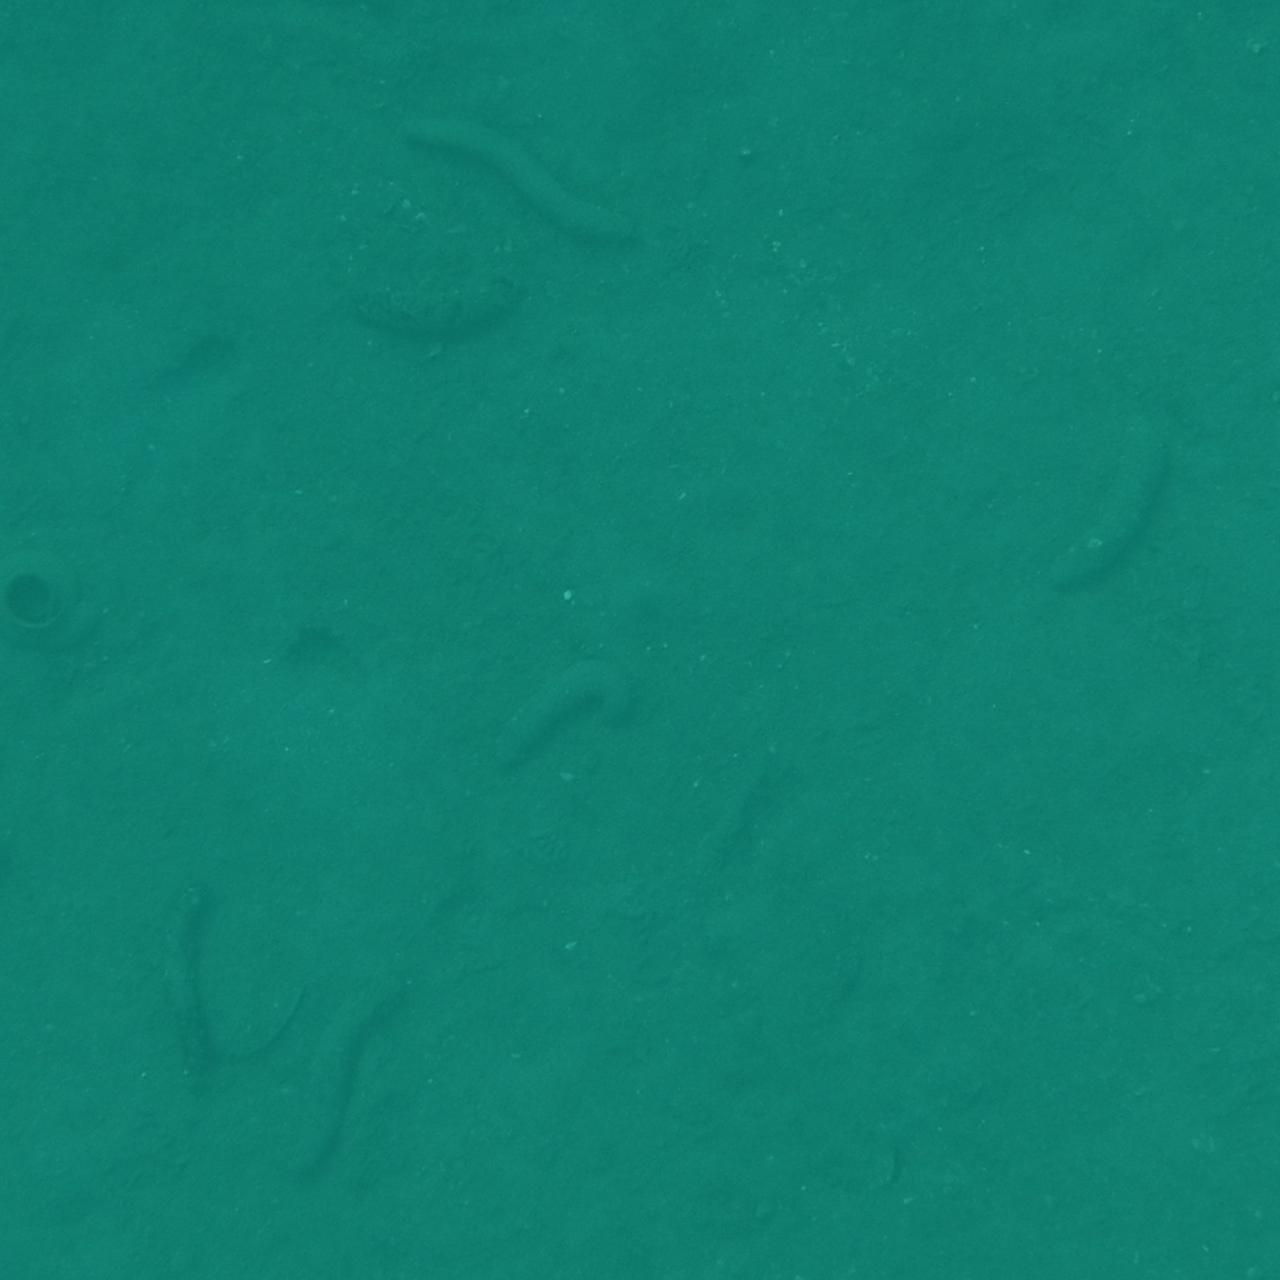Holothuria tubulosa: (384, 103, 659, 263), (270, 958, 435, 1192), (1044, 399, 1210, 602), (290, 257, 539, 379), (475, 645, 645, 808), (144, 877, 247, 1141), (0, 445, 128, 636), (136, 0, 277, 150), (953, 0, 1131, 111), (0, 0, 168, 111), (0, 0, 123, 149), (470, 0, 640, 105), (0, 1146, 118, 1280), (1198, 0, 1280, 182), (0, 833, 156, 927), (237, 0, 468, 61), (0, 0, 129, 108), (0, 0, 63, 198), (0, 560, 75, 723), (1141, 0, 1280, 77), (0, 408, 56, 580), (1198, 0, 1280, 105), (0, 1224, 139, 1280), (1231, 0, 1280, 154), (0, 0, 151, 46), (0, 1159, 49, 1280)
